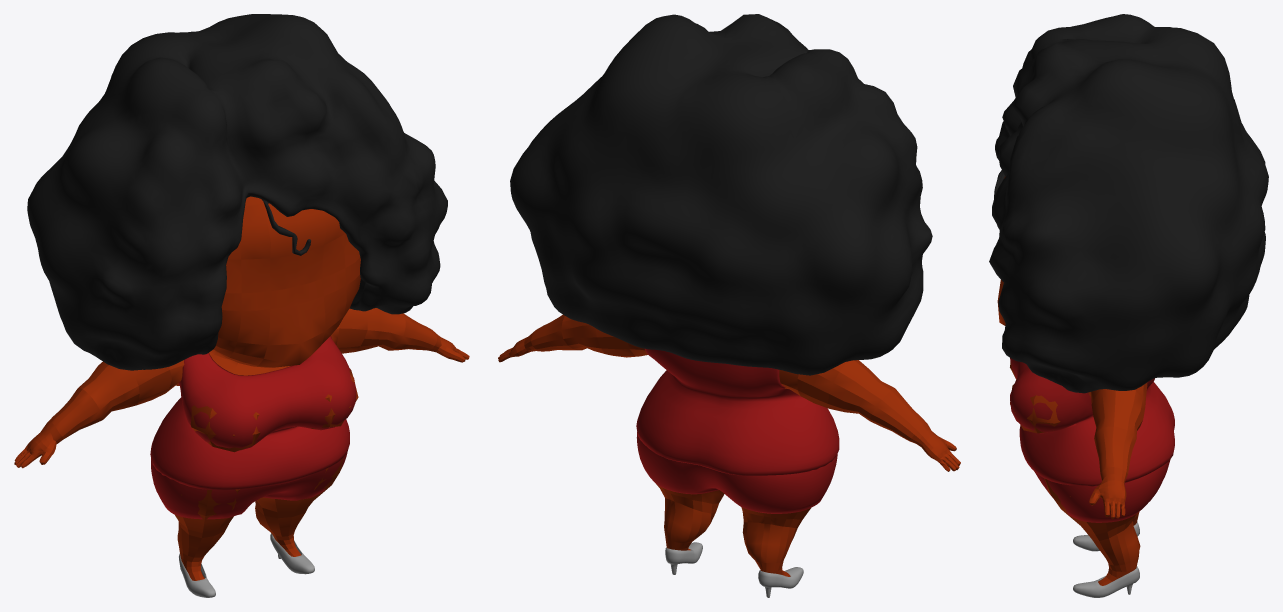
File: fat_affro_Updated.FBX
The picture shows the model from 3 angles, left to right: view 1: azimuth 30°, elevation 25°; view 2: azimuth 150°, elevation 25°; view 3: azimuth 270°, elevation 25°; orthographic projection. The views are drawn at different scales.
Parts seen in each view (by area): view 1: Group18966, body, shirt, polySurface15; view 2: Group18966, shirt, body, polySurface15; view 3: Group18966, shirt, body, polySurface15.
Boxes of the visible parts, bbox=[...] form: Group18966: bbox=[27, 14, 447, 370]; body: bbox=[14, 196, 469, 580]; shirt: bbox=[150, 336, 356, 519]; polySurface15: bbox=[179, 533, 314, 597]; Group18966: bbox=[510, 14, 932, 375]; shirt: bbox=[636, 348, 839, 513]; body: bbox=[498, 314, 960, 576]; polySurface15: bbox=[665, 542, 803, 597]; Group18966: bbox=[989, 14, 1268, 393]; shirt: bbox=[1010, 358, 1174, 522]; body: bbox=[997, 176, 1147, 585]; polySurface15: bbox=[1073, 521, 1139, 597].
Bounding box in the file's own units: 62.37 × 71.36 × 33.96.
